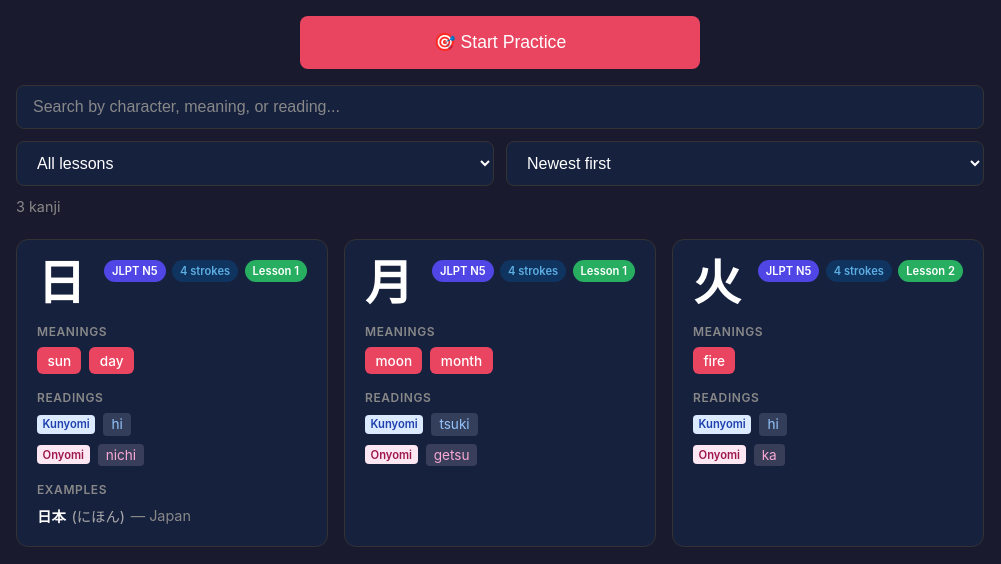
Scenario: KanjiList › Search and filtering › should filter kanji by character
Expected: the text "日" is shown, [37,257,85,310]
Type "月" into the field named "Search kanji".
click(500, 107); type("月")  # box [16,85,984,129]
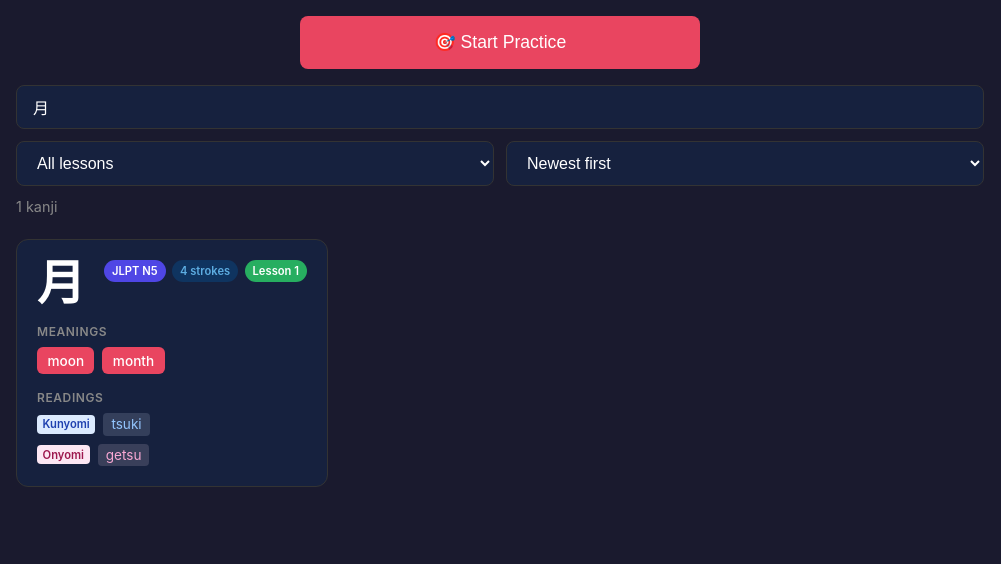
Expected: the text "月" is shown, [37,257,85,310]
Result: the text "日" is gone
Result: the text "火" is gone
